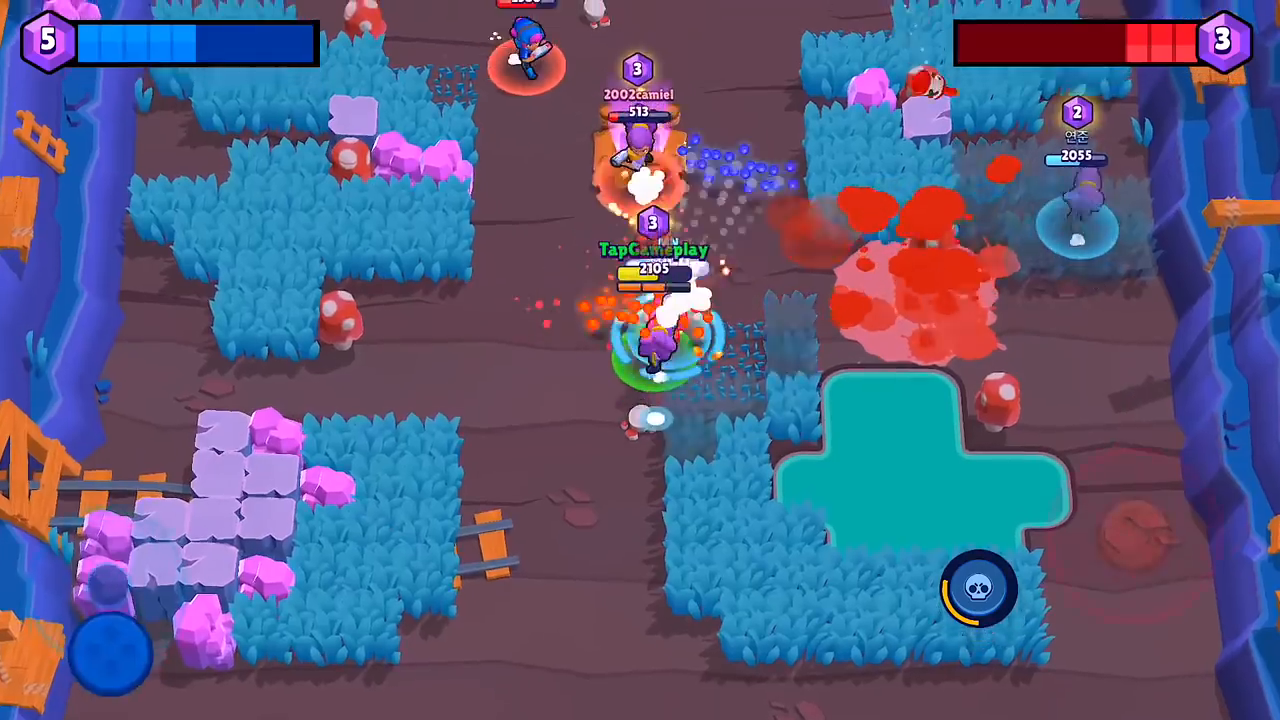move_stick: (73, 612, 149, 692)
red: (597, 90, 700, 209), (481, 1, 579, 97)
